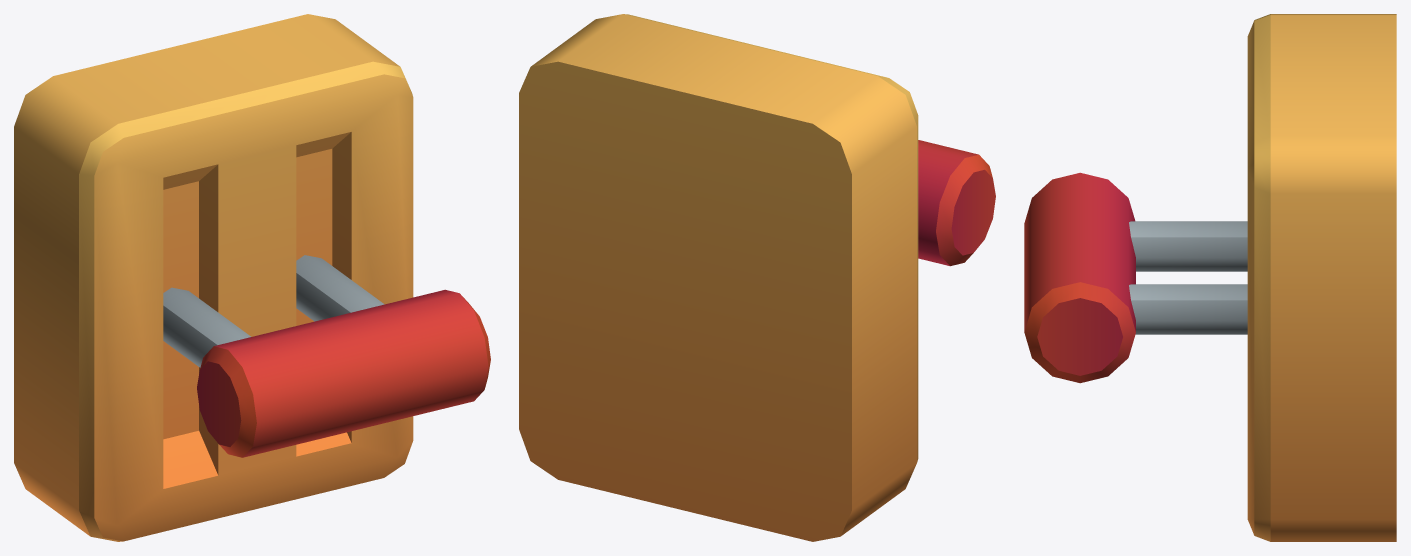
Rendered from lever_wall_base_B_yellow.glb.
The picture shows the model from 3 angles, left to right: view 1: azimuth 30°, elevation 25°; view 2: azimuth 150°, elevation 25°; view 3: azimuth 270°, elevation 25°; orthographic projection. The views are drawn at different scales.
Visible parts, largest first — view 1: lever_wall_base_B_yellow, lever_wall_B_yellow; view 2: lever_wall_base_B_yellow, lever_wall_B_yellow; view 3: lever_wall_base_B_yellow, lever_wall_B_yellow.
Boxes of the visible parts, bbox=[...] form: lever_wall_base_B_yellow: bbox=[14, 14, 413, 541]; lever_wall_B_yellow: bbox=[163, 255, 490, 457]; lever_wall_base_B_yellow: bbox=[519, 14, 918, 541]; lever_wall_B_yellow: bbox=[918, 140, 995, 266]; lever_wall_base_B_yellow: bbox=[1247, 14, 1396, 541]; lever_wall_B_yellow: bbox=[1024, 172, 1247, 383].
Bounding box in the file's own units: 1 × 1.2 × 1.
1 material, 1 textured.
